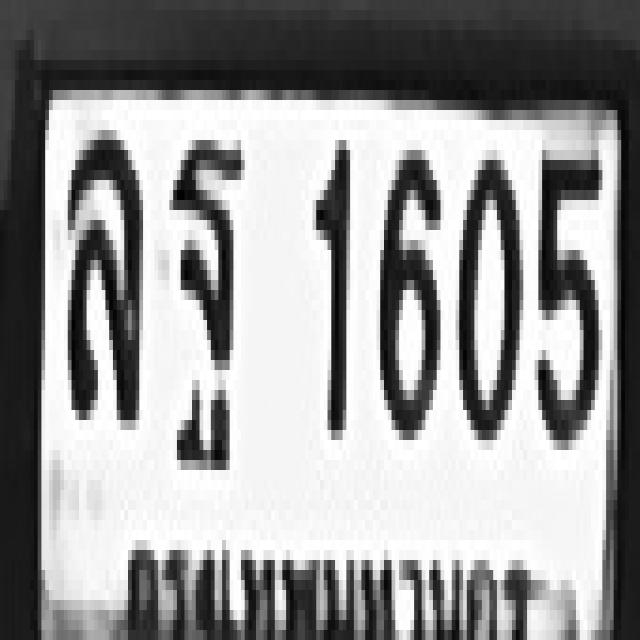-: (64, 125, 139, 415), (169, 130, 241, 420)
0: (456, 150, 516, 430)
1: (313, 130, 347, 430)
5: (534, 140, 598, 440)
6: (376, 140, 436, 430)
